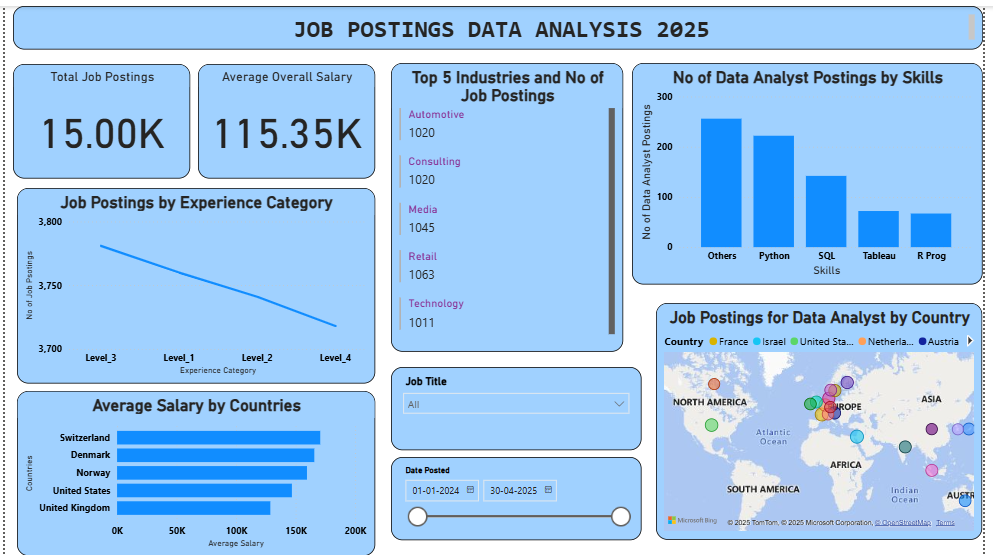

The dashboard page shown, as its layout file describes it:
{"tool":"powerbi","page":{"name":"Page 1","canvas":[1280,720],"ordinal":0},"visuals":[{"type":"lineChart","title":"Job Postings by Experience Category","fields":{"Category":["ai_job_dataset.Experience_Cat"],"Y":["CountNonNull(ai_job_dataset.experience_level)"]},"box":[16.2,238,468.7,255.7],"z":0},{"type":"textbox","box":[10.1,0,1269.9,57.1],"z":1000},{"type":"card","title":"Total Job Postings","fields":{"Values":["CountNonNull(ai_job_dataset.job_id)"]},"box":[10.3,76.4,232.2,149.9],"z":2000},{"type":"card","title":"Average Overall Salary","fields":{"Values":["Avg(ai_job_dataset.salary_usd)"]},"box":[252.7,76.4,232.2,149.9],"z":3000},{"type":"map","title":"Job Postings for Data Analyst by Country","fields":{"Category":["ai_job_dataset.company_location"],"Series":["ai_job_dataset.company_location"],"Size":["ai_job_dataset.DA_Postings"]},"box":[852.8,388.8,427.2,310.4],"z":4000},{"type":"clusteredColumnChart","fields":{"Category":["ai_job_dataset.Skills_required"],"Y":["ai_job_dataset.DA_Postings"]},"box":[821.1,75.1,458.9,290.4],"z":4001},{"type":"barChart","fields":{"Y":["Avg(ai_job_dataset.salary_usd)"],"Category":["ai_job_dataset.company_location"]},"box":[16.2,504,468.7,216],"z":4002},{"type":"multiRowCard","title":"Top 5 Industries and No of Job Postings","fields":{"Values":["ai_job_dataset.industry","CountNonNull(ai_job_dataset.job_id)"]},"box":[505.5,74.9,304.2,377.6],"z":4003},{"type":"slicer","fields":{"Values":["ai_job_dataset.job_title"]},"box":[505.5,473.1,327.7,108.7],"z":4004},{"type":"slicer","fields":{"Values":["ai_job_dataset.posting_date"]},"box":[505.5,590.7,327.7,108.7],"z":4005}]}

Visuals, with their boxes in screenshot pixels (x1, y1, x2, y2), scaled from the page's 1280x720 canvas onto the 993x555 screenshot:
"Job Postings by Experience Category" lineChart: [x1=13, y1=183, x2=376, y2=381]
textbox: [x1=8, y1=0, x2=992, y2=44]
"Total Job Postings" card: [x1=8, y1=59, x2=188, y2=174]
"Average Overall Salary" card: [x1=196, y1=59, x2=376, y2=174]
"Job Postings for Data Analyst by Country" map: [x1=662, y1=300, x2=992, y2=539]
clusteredColumnChart - ai_job_dataset.Skills_required x ai_job_dataset.DA_Postings: [x1=637, y1=58, x2=992, y2=282]
barChart - Avg(ai_job_dataset.salary_usd) x ai_job_dataset.company_location: [x1=13, y1=388, x2=376, y2=554]
"Top 5 Industries and No of Job Postings" multiRowCard: [x1=392, y1=58, x2=628, y2=349]
slicer - ai_job_dataset.job_title: [x1=392, y1=365, x2=646, y2=448]
slicer - ai_job_dataset.posting_date: [x1=392, y1=455, x2=646, y2=539]
